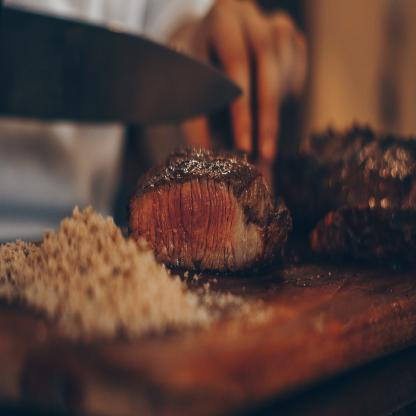Carne: (128, 139, 292, 274)
